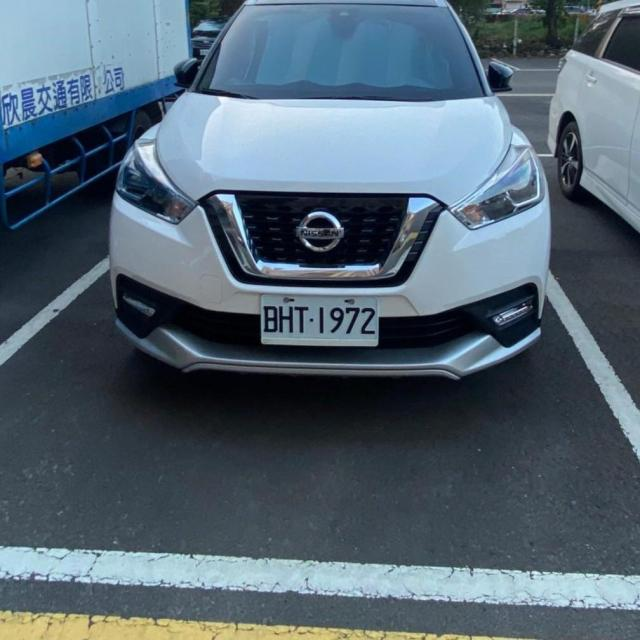W: (260, 290, 378, 346)
